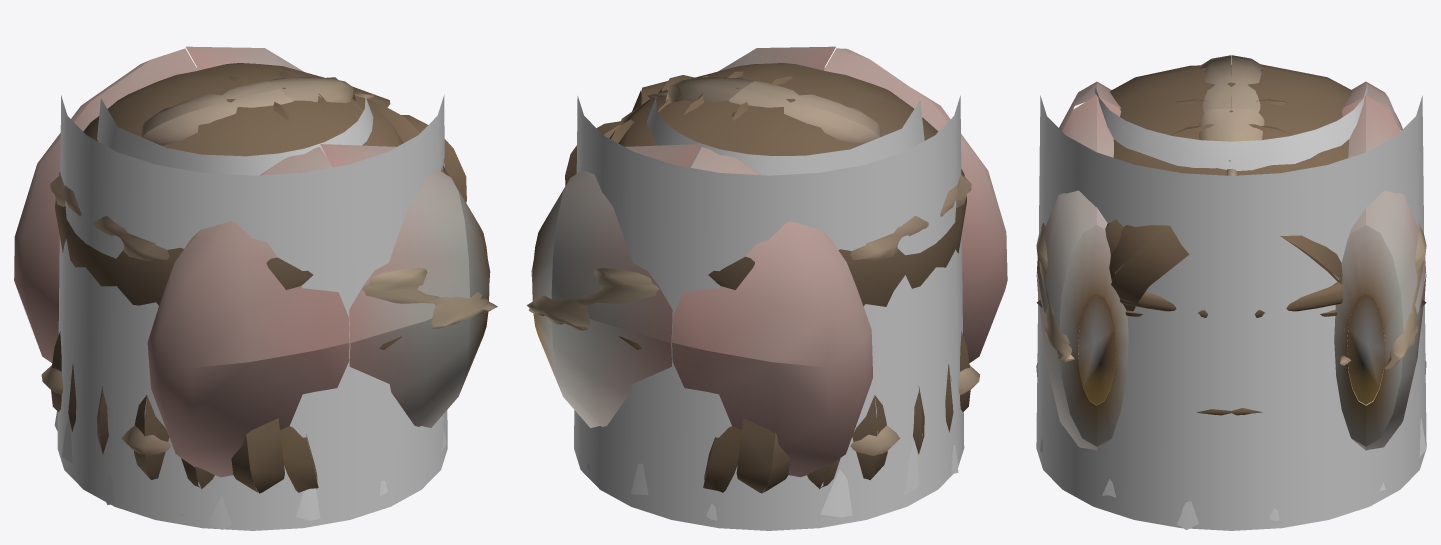
3 views of the same model, side by side, from view 1: azimuth 30°, elevation 25°; view 2: azimuth 150°, elevation 25°; view 3: azimuth 270°, elevation 25° (orthographic).
Visible parts, largest first — view 1: team, tex:eye, tex:hair1, tex:skinHide, tex:hair2, fur; view 2: team, tex:eye, tex:hair1, tex:skinHide, tex:hair2, fur; view 3: team, tex:eye, tex:hair1, fur, tex:skinHide, tex:hair2.
Part boxes in pixels (x1,y1,x2,y2): team: [57, 95, 447, 530]; tex:eye: [14, 46, 490, 477]; tex:hair1: [55, 63, 403, 349]; tex:skinHide: [41, 76, 497, 455]; tex:hair2: [51, 71, 466, 493]; fur: [54, 96, 446, 529]; team: [574, 95, 964, 530]; tex:eye: [531, 46, 1007, 477]; tex:hair1: [618, 63, 966, 349]; tex:skinHide: [526, 77, 980, 455]; tex:hair2: [565, 71, 970, 493]; fur: [587, 96, 958, 520]; team: [1036, 95, 1426, 530]; tex:eye: [1036, 81, 1426, 450]; tex:hair1: [1036, 64, 1426, 415]; fur: [1040, 86, 1426, 529]; tex:skinHide: [1036, 55, 1426, 369]; tex:hair2: [1036, 99, 1426, 376].
Size of the model in its own units: 65535 by 65535 by 65535.
